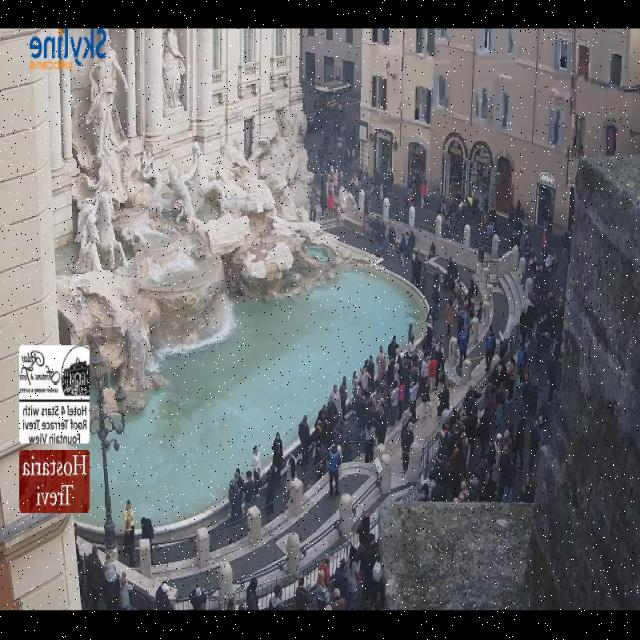person: (354, 356, 407, 429), (520, 260, 555, 350), (400, 312, 433, 398), (520, 273, 556, 351), (392, 343, 435, 402), (411, 312, 443, 391), (436, 409, 463, 483), (445, 409, 467, 495), (357, 533, 380, 602), (357, 534, 380, 602), (454, 406, 478, 470), (446, 409, 467, 482), (480, 430, 512, 477), (412, 312, 432, 378), (398, 343, 418, 408), (547, 281, 563, 362), (528, 254, 555, 302), (357, 533, 376, 601), (544, 291, 563, 359), (493, 430, 511, 501), (471, 450, 495, 501), (432, 412, 451, 475), (456, 285, 480, 333), (85, 546, 103, 610), (420, 341, 443, 391), (364, 383, 387, 427), (101, 551, 118, 610), (541, 253, 555, 320), (536, 268, 547, 352), (448, 436, 463, 497), (446, 409, 463, 462), (453, 277, 476, 316), (424, 331, 443, 378), (76, 547, 90, 610), (528, 250, 548, 294), (500, 445, 515, 502), (452, 277, 475, 314), (310, 563, 328, 610), (516, 210, 533, 259), (346, 546, 359, 610), (508, 333, 525, 381), (327, 105, 346, 147), (75, 544, 87, 610), (462, 410, 476, 466), (529, 257, 544, 307), (370, 553, 383, 610), (453, 299, 473, 336), (340, 105, 354, 156), (513, 412, 525, 471), (298, 415, 312, 465), (488, 434, 501, 487), (228, 471, 240, 527), (558, 232, 569, 293), (444, 263, 463, 298), (488, 360, 508, 393), (400, 417, 412, 471), (485, 360, 502, 398), (312, 572, 329, 610), (521, 372, 535, 415), (332, 559, 347, 599), (543, 253, 556, 299), (312, 405, 327, 444), (434, 337, 445, 390), (453, 281, 464, 334), (403, 172, 419, 208), (407, 172, 423, 208), (328, 444, 339, 496), (324, 403, 337, 447), (334, 377, 346, 424), (271, 432, 283, 479), (264, 465, 276, 512), (528, 419, 538, 474), (420, 356, 429, 417), (336, 426, 351, 462), (462, 385, 480, 415), (140, 518, 152, 562), (364, 420, 376, 463), (418, 472, 435, 501), (548, 291, 558, 340), (496, 365, 504, 426), (314, 443, 327, 480), (103, 551, 118, 583), (321, 125, 331, 173), (505, 357, 515, 404), (124, 520, 134, 567), (294, 577, 308, 610), (536, 404, 547, 446), (433, 339, 444, 381), (415, 170, 427, 208), (119, 572, 131, 610), (524, 237, 537, 272), (234, 467, 243, 517), (485, 326, 495, 371), (155, 584, 172, 610), (356, 510, 369, 544), (547, 355, 556, 404), (330, 153, 340, 197), (556, 297, 564, 351), (243, 471, 253, 514), (319, 147, 329, 190), (408, 378, 418, 421), (320, 147, 330, 190), (520, 219, 531, 258), (245, 577, 258, 610), (188, 585, 205, 610), (520, 472, 533, 504), (516, 343, 526, 384), (423, 311, 432, 356), (429, 476, 445, 501), (408, 351, 419, 387), (525, 304, 536, 340), (375, 408, 386, 444), (285, 454, 295, 493), (366, 354, 376, 393), (364, 215, 379, 241), (444, 298, 453, 341), (436, 385, 448, 417), (421, 474, 435, 501), (371, 216, 384, 245), (252, 447, 260, 493), (444, 257, 456, 287), (340, 132, 348, 177), (412, 252, 422, 288), (376, 346, 385, 386), (268, 586, 283, 610), (389, 381, 397, 425), (338, 377, 346, 420), (329, 158, 338, 196), (468, 198, 481, 224), (461, 432, 469, 474), (396, 379, 404, 421), (428, 351, 436, 393), (464, 299, 474, 332), (318, 555, 329, 585), (436, 341, 444, 382), (140, 518, 153, 543), (457, 330, 467, 362), (548, 255, 557, 290), (331, 589, 346, 610), (431, 282, 439, 320), (373, 172, 383, 201), (359, 366, 368, 398), (519, 306, 527, 342), (375, 220, 383, 256), (399, 232, 407, 267), (387, 335, 397, 363), (362, 193, 368, 239), (140, 518, 151, 543), (123, 501, 133, 528), (384, 165, 393, 195), (350, 172, 359, 201), (329, 385, 339, 411), (544, 254, 551, 290), (514, 199, 523, 226), (407, 230, 416, 257), (316, 143, 324, 173), (392, 355, 400, 385), (465, 278, 475, 302), (74, 524, 80, 563), (419, 268, 427, 297), (388, 225, 395, 257), (449, 203, 457, 230), (352, 372, 358, 408), (323, 123, 330, 153), (327, 185, 333, 219), (309, 189, 315, 221), (383, 224, 389, 255), (320, 189, 326, 219), (406, 341, 416, 359), (403, 187, 412, 206), (541, 229, 547, 257), (510, 228, 519, 246), (488, 207, 496, 227), (508, 206, 515, 227), (336, 135, 342, 157), (420, 182, 425, 208), (332, 119, 338, 140), (428, 242, 435, 259), (432, 271, 439, 287), (337, 103, 343, 121), (226, 597, 234, 610), (439, 201, 445, 218), (452, 493, 463, 502), (408, 324, 413, 342), (350, 148, 355, 164), (237, 603, 245, 610), (342, 377, 345, 386)
